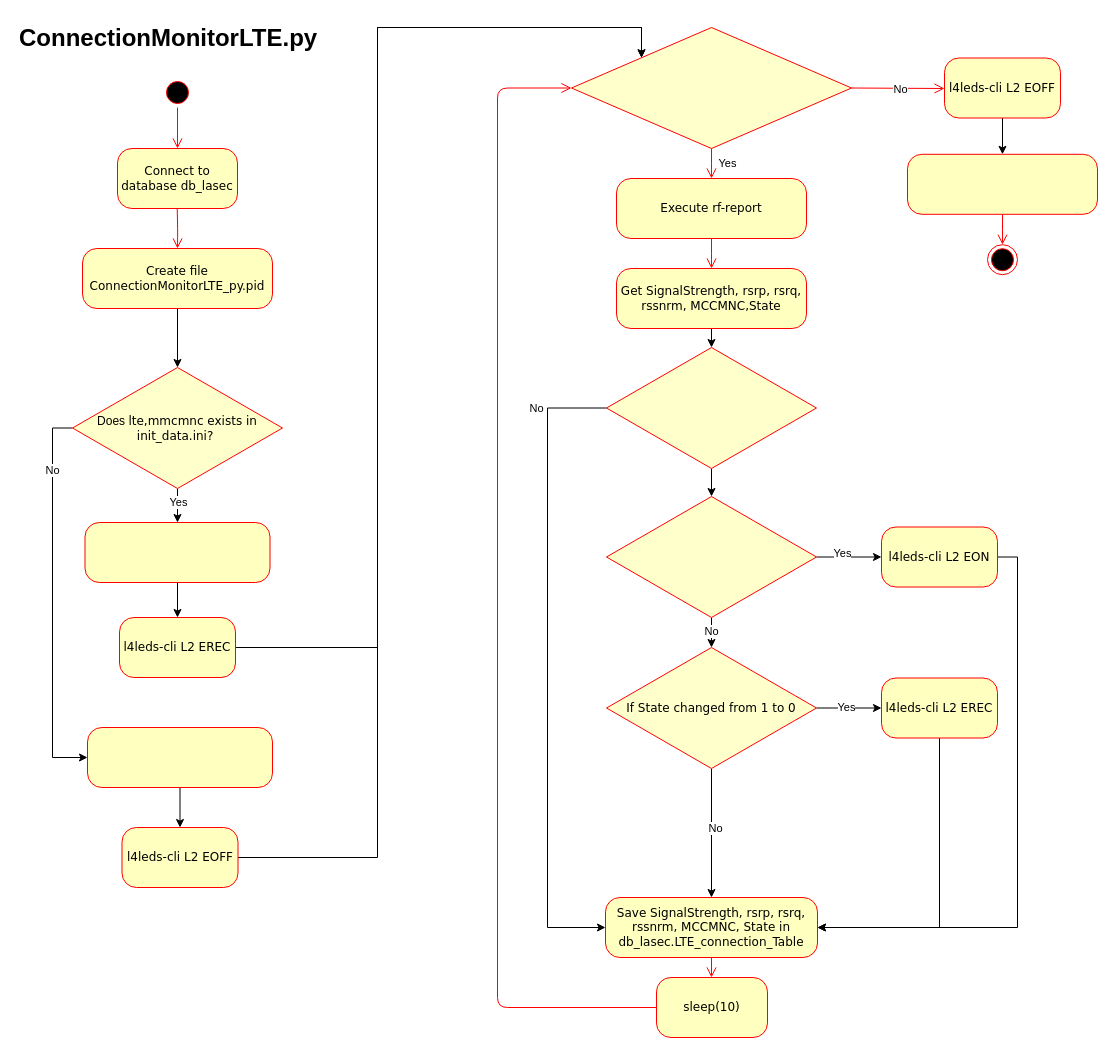
This 1115x1055 diagram has some shape labels left out. The shapes that lost their labels are listed below. From the top down, each one's centre as x and y in pixels, then its label:
point 711,87: Does ConnectionMonitorLTE_py.pid exist ?
point 1002,183: Close connection to db_lasec
point 711,407: desired_network_mccmnc != "NOT_SET" ?
point 177,552: desired_network_mccmnc = lte,mmcmnc
point 711,557: If State changed from 0 to 1
point 179,757: desired_network_mccmnc = "NOT_SET"
